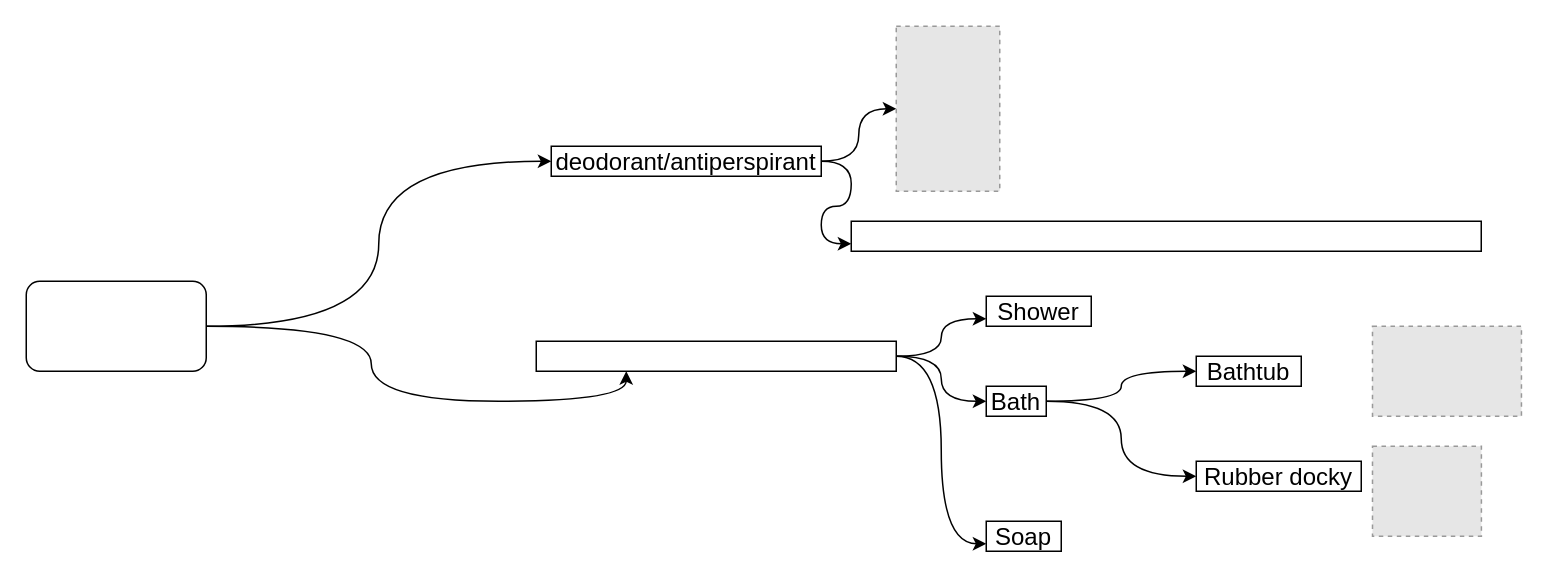
The diagram is 1548 pixels wide and 578 high, and some of its shapes have lost their labels. Grey dashed boxes stand in for pictures. The shapes that lost their labels are listed below. From the top down, each one's box as (x1, y1, x2, y2) in pixels, then its label:
(850, 220, 1481, 251): It is a substance applied to the body to prevent body odor
(25, 280, 206, 371): Hygiene
(535, 340, 896, 371): Take a shower(bath) every day
